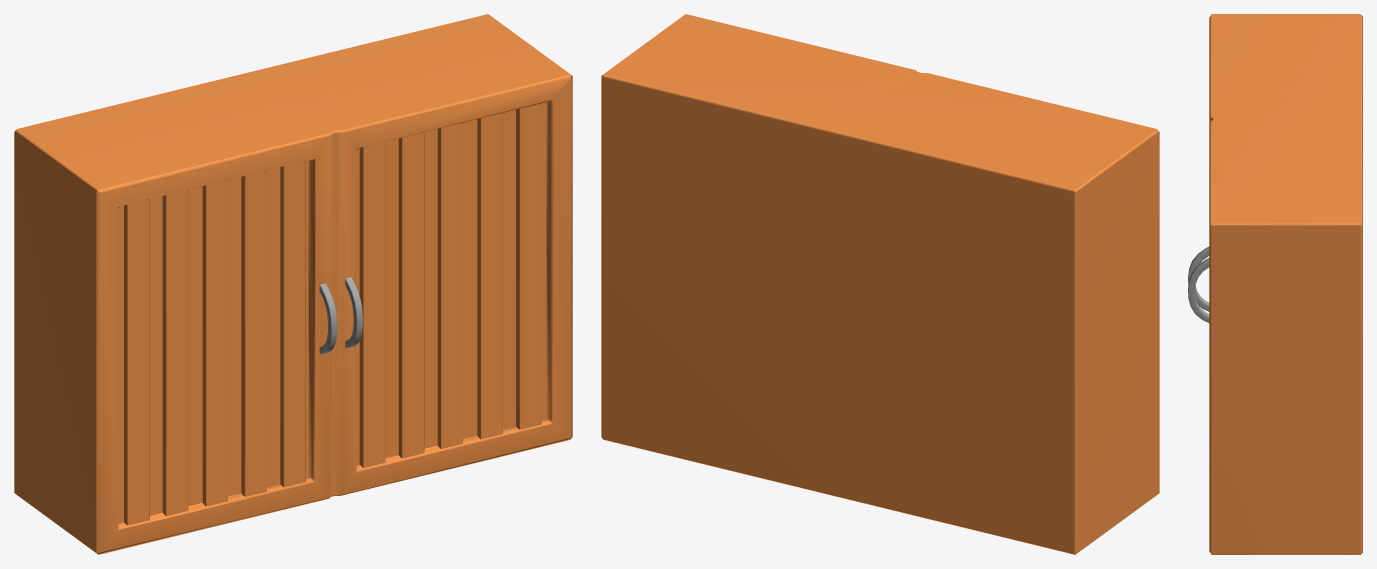
Rendered from Kitchen_Cabinet_2.glb.
3 views of the same model, side by side, from view 1: azimuth 30°, elevation 25°; view 2: azimuth 150°, elevation 25°; view 3: azimuth 270°, elevation 25° (orthographic). The views are drawn at different scales.
Parts seen in each view (by area): view 1: Kitchen_Cabinet_2; view 2: Kitchen_Cabinet_2; view 3: Kitchen_Cabinet_2.
Part boxes in pixels (x1,y1,x2,y2): Kitchen_Cabinet_2: (14, 14, 572, 554); Kitchen_Cabinet_2: (601, 14, 1159, 554); Kitchen_Cabinet_2: (1188, 14, 1362, 554).
Bounding box in the file's own units: 1.11 × 0.8121 × 0.3876.
Materials: 1 (1 with a texture image).
